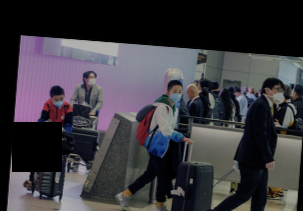with_mask: (268, 86, 285, 104), (169, 88, 182, 104), (50, 95, 64, 109), (85, 74, 96, 86)
